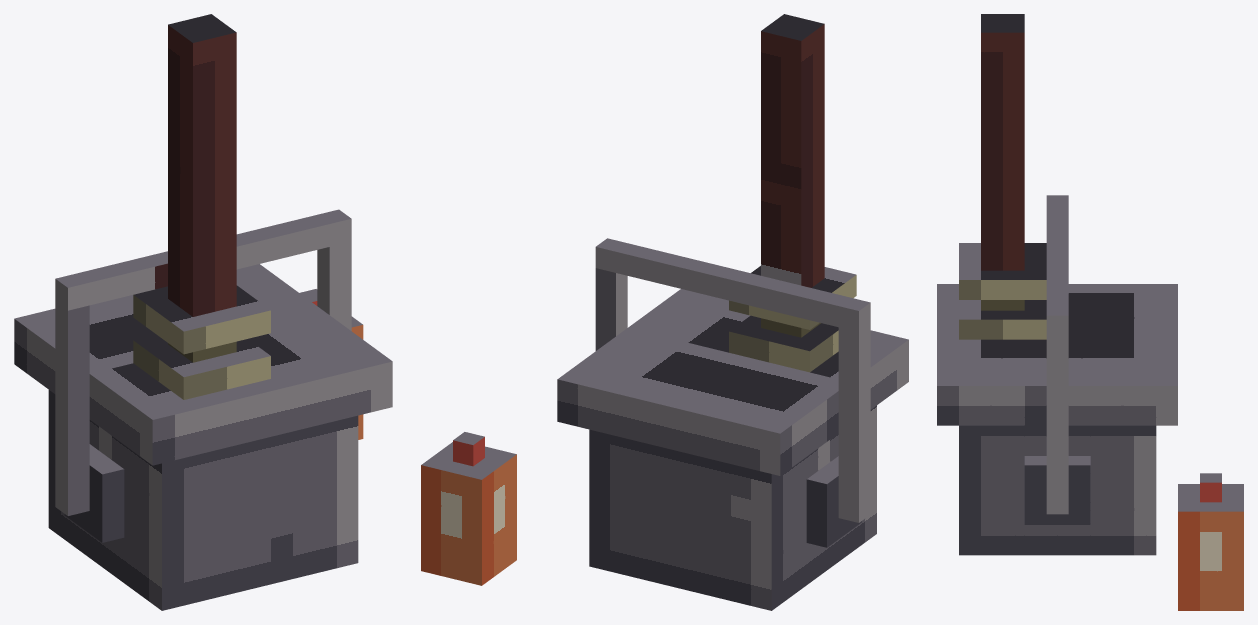
The model's file is int_mop_bucketao.fezao.glb.
3 renders of one model, left to right at view 1: azimuth 30°, elevation 25°; view 2: azimuth 150°, elevation 25°; view 3: azimuth 270°, elevation 25°, orthographic. The views are drawn at different scales.
Visible parts, largest first — view 1: INT_MOP_BUCKETAO; view 2: INT_MOP_BUCKETAO; view 3: INT_MOP_BUCKETAO.
Part boxes in pixels (x1,y1,x2,y2): INT_MOP_BUCKETAO: (14, 14, 392, 610); INT_MOP_BUCKETAO: (421, 14, 908, 610); INT_MOP_BUCKETAO: (937, 14, 1243, 610).
Size of the model in its own units: 1.06 by 1.5 by 0.875.
Materials: 1 (1 with a texture image).
